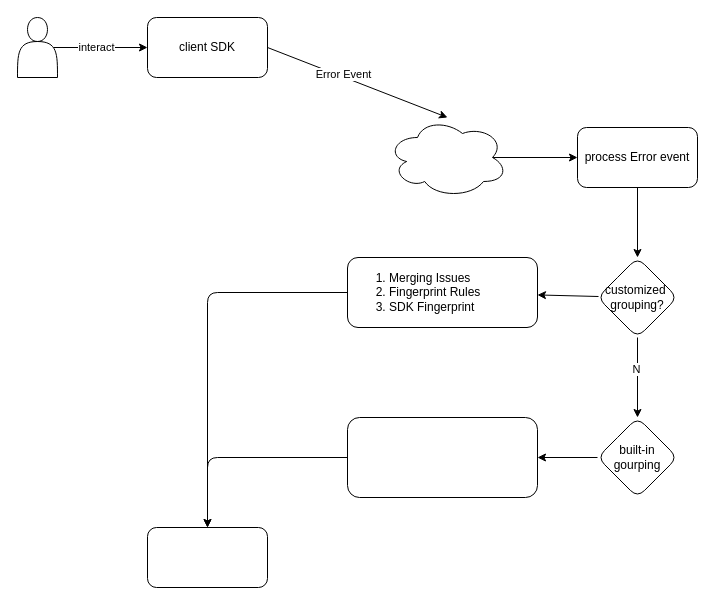
Some shapes in this 715 by 605 pixel diagram are drawn without their labels. The centre of each missing label's shape, as x and y in pixels:
"Inject fingerprint into Event" belongs at [207,557].
"Server Side" belongs at [447,157].
"stack trace exception type & value error message" belongs at [442,457].
